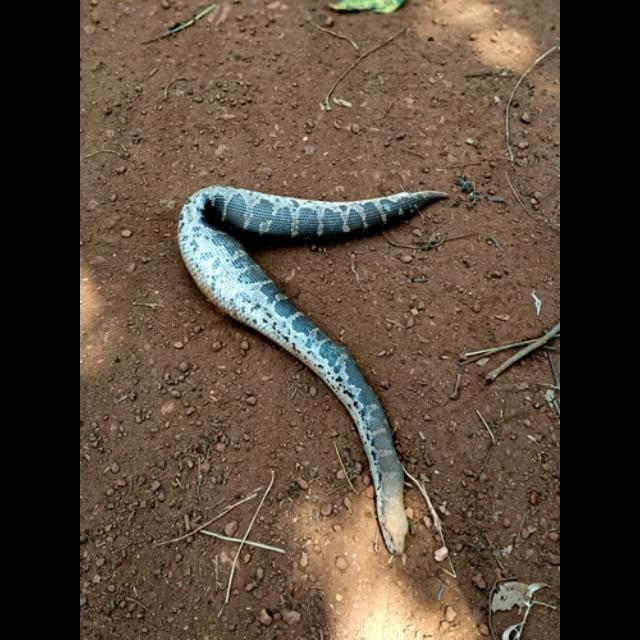snake: (158, 165, 442, 578)
